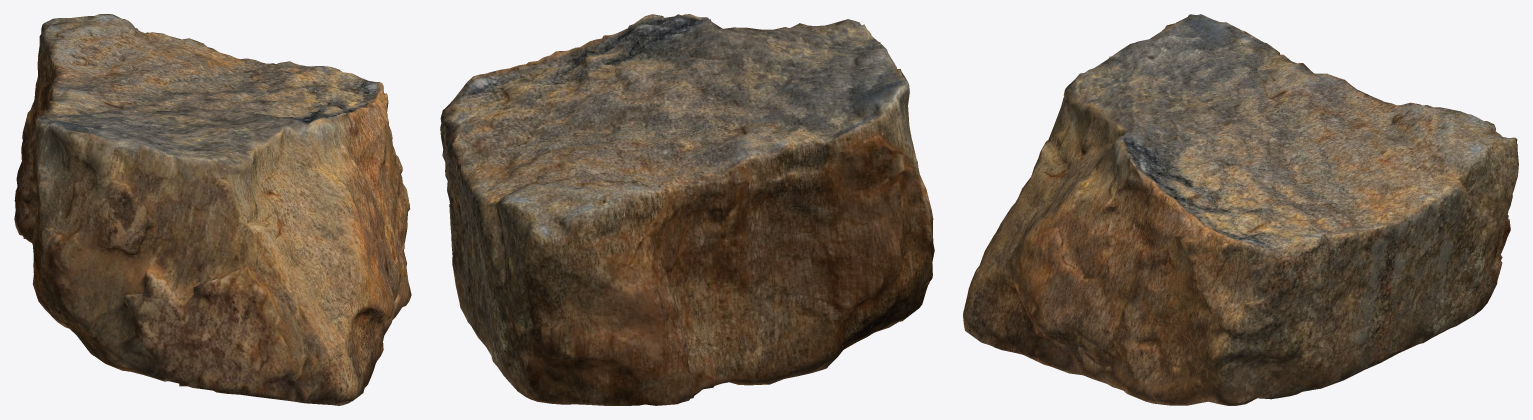
The model's file is boulder-3.glb.
3 views of the same model, side by side, from view 1: azimuth 30°, elevation 25°; view 2: azimuth 150°, elevation 25°; view 3: azimuth 270°, elevation 25° (orthographic). The views are drawn at different scales.
Parts seen in each view (by area): view 1: boulder_03_LOD0; view 2: boulder_03_LOD0; view 3: boulder_03_LOD0.
Boxes of the visible parts, x1,y1,x2,y2 form: boulder_03_LOD0: [14, 14, 411, 405]; boulder_03_LOD0: [440, 14, 934, 405]; boulder_03_LOD0: [963, 14, 1518, 405].
Size of the model in its own units: 2.4 by 1.47 by 3.06.
1 material, 1 textured.
